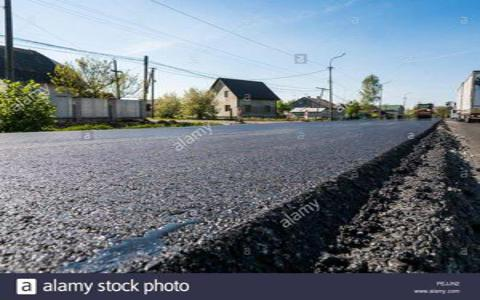Proper road: (113, 129, 341, 187)
